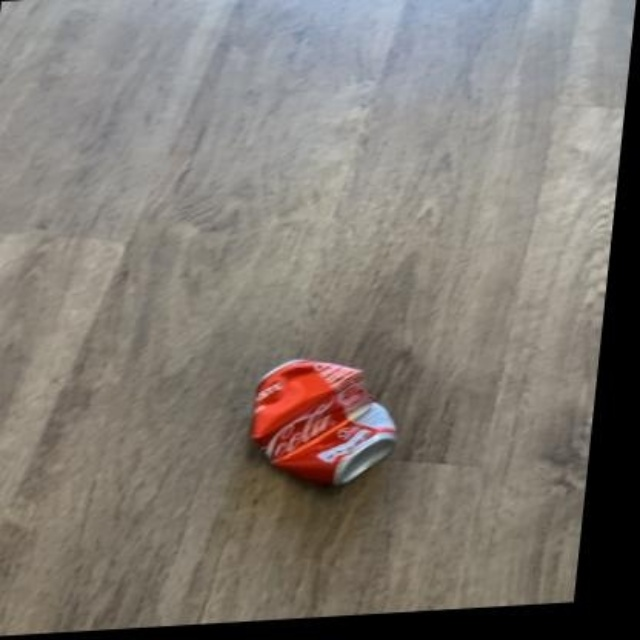trash: (251, 360, 394, 485)
